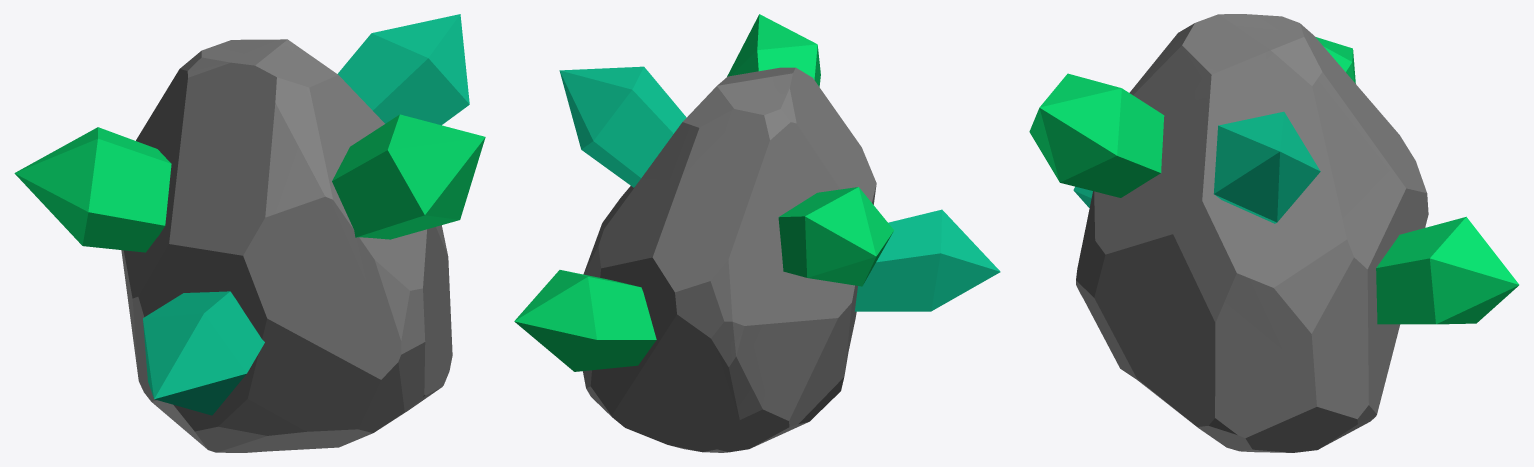
Rendered from MineralNode_08_C.fbx.
The picture shows the model from 3 angles, left to right: view 1: azimuth 30°, elevation 25°; view 2: azimuth 150°, elevation 25°; view 3: azimuth 270°, elevation 25°; orthographic projection. The views are drawn at different scales.
Visible parts, largest first — view 1: MineralNode_08_C; view 2: MineralNode_08_C; view 3: MineralNode_08_C.
Part boxes in pixels (left/top/right/bottom): MineralNode_08_C: left=14, top=14, right=485, bottom=452; MineralNode_08_C: left=514, top=14, right=1000, bottom=452; MineralNode_08_C: left=1029, top=14, right=1519, bottom=452.
Bounding box in the file's own units: 94.78 × 90.02 × 105.
